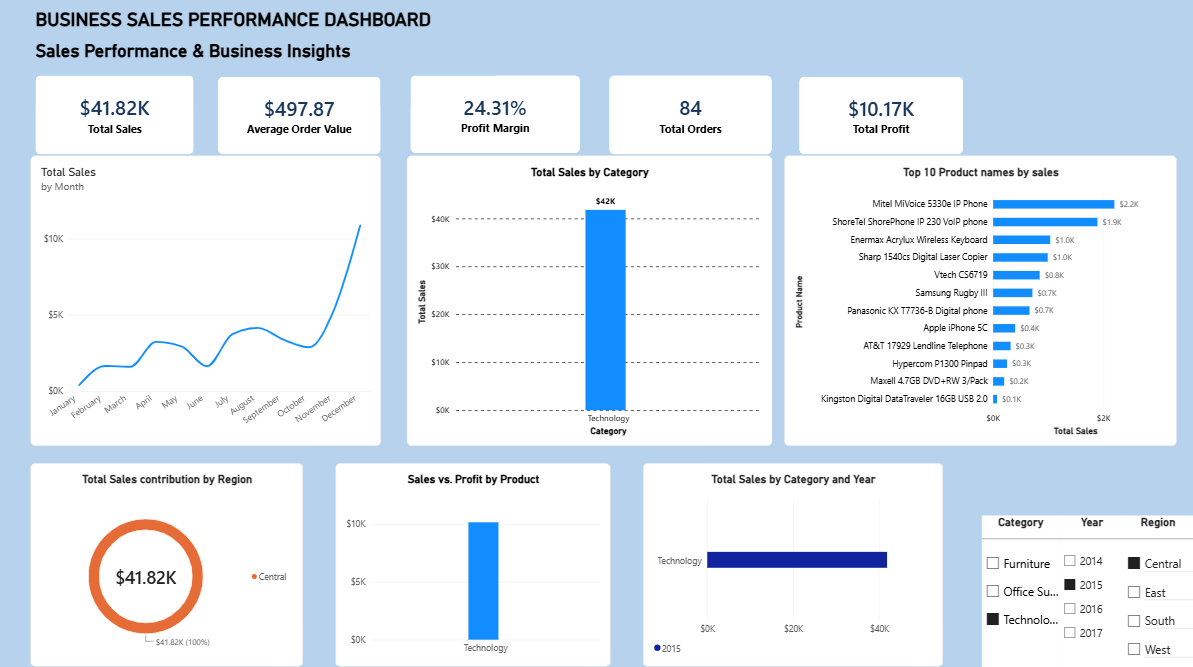

Layout of this report page (visuals, bound fields, positions):
{"tool":"powerbi","page":{"name":"Page 1","canvas":[1920,1080],"ordinal":0},"visuals":[{"type":"textbox","title":"BUSINESS SALES PERFORMANCE DASHBOARD","box":[68,24,1022,110],"z":0},{"type":"cardVisual","fields":{"Data":["DateTable.Total Revenue"]},"box":[46,156,254,102],"z":1000},{"type":"cardVisual","fields":{"Data":["DateTable.Average Order Value"]},"box":[348,156,260,102],"z":2000},{"type":"cardVisual","fields":{"Data":["DateTable.Profit Margin"]},"box":[662,156,272,102],"z":3000},{"type":"cardVisual","fields":{"Data":["DateTable.Total Orders"]},"box":[986,156,260,102],"z":4000},{"type":"cardVisual","fields":{"Data":["DateTable.Total Profit"]},"box":[1280,156,262,102],"z":5000},{"type":"columnChart","title":"Total Sales by Category","fields":{"Category":["Superstores_cleaned.Category"],"Y":["DateTable.Total Sales"]},"box":[46,722,562,358],"z":6000},{"type":"donutChart","title":"Total Sales contribution by Region","fields":{"Category":["Superstores_cleaned.Region"],"Y":["DateTable.Total Sales"]},"box":[594,282,436,424],"z":7000},{"type":"slicer","title":"Year","fields":{"Values":["DateTable.Year"]},"box":[1450,18,184,118],"z":8000},{"type":"slicer","title":"Category","fields":{"Values":["Superstores_cleaned.Category"]},"box":[1228,18,184,118],"z":9000},{"type":"slicer","title":"Region","fields":{"Values":["Superstores_cleaned.Region"]},"box":[1680,18,186,116],"z":10000},{"type":"lineChart","title":"Total Sales by Over Time","fields":{"Category":["DateTable.Month"],"Y":["DateTable.Total Sales"]},"box":[20,282,560,424],"z":11000},{"type":"clusteredBarChart","title":"Top 10 Product names by sales","fields":{"Category":["Superstores_cleaned.Product Name"],"Y":["DateTable.Total Sales"]},"box":[1048,282,844,424],"z":12000},{"type":"columnChart","title":"Total Profit by Category","fields":{"Category":["Superstores_cleaned.Category"],"Y":["DateTable.Total Profit"]},"box":[672,722,576,358],"z":12001},{"type":"barChart","fields":{"Category":["Superstores_cleaned.Category"],"Series":["DateTable.Year"],"Y":["DateTable.Total Sales"]},"box":[1280,722,612,358],"z":12002}]}

Visuals, with their boxes in screenshot pixels (x1, y1, x2, y2), scaled from the page's 1920x1080 canvas onto the 1193x667 screenshot:
"BUSINESS SALES PERFORMANCE DASHBOARD" textbox: left=42, top=15, right=677, bottom=83
cardVisual - DateTable.Total Revenue: left=29, top=96, right=186, bottom=159
cardVisual - DateTable.Average Order Value: left=216, top=96, right=378, bottom=159
cardVisual - DateTable.Profit Margin: left=411, top=96, right=580, bottom=159
cardVisual - DateTable.Total Orders: left=613, top=96, right=774, bottom=159
cardVisual - DateTable.Total Profit: left=795, top=96, right=958, bottom=159
"Total Sales by Category" columnChart: left=29, top=446, right=378, bottom=666
"Total Sales contribution by Region" donutChart: left=369, top=174, right=640, bottom=436
"Year" slicer: left=901, top=11, right=1015, bottom=84
"Category" slicer: left=763, top=11, right=877, bottom=84
"Region" slicer: left=1044, top=11, right=1159, bottom=83
"Total Sales by Over Time" lineChart: left=12, top=174, right=360, bottom=436
"Top 10 Product names by sales" clusteredBarChart: left=651, top=174, right=1176, bottom=436
"Total Profit by Category" columnChart: left=418, top=446, right=775, bottom=666
barChart - Superstores_cleaned.Category x DateTable.Year: left=795, top=446, right=1176, bottom=666
